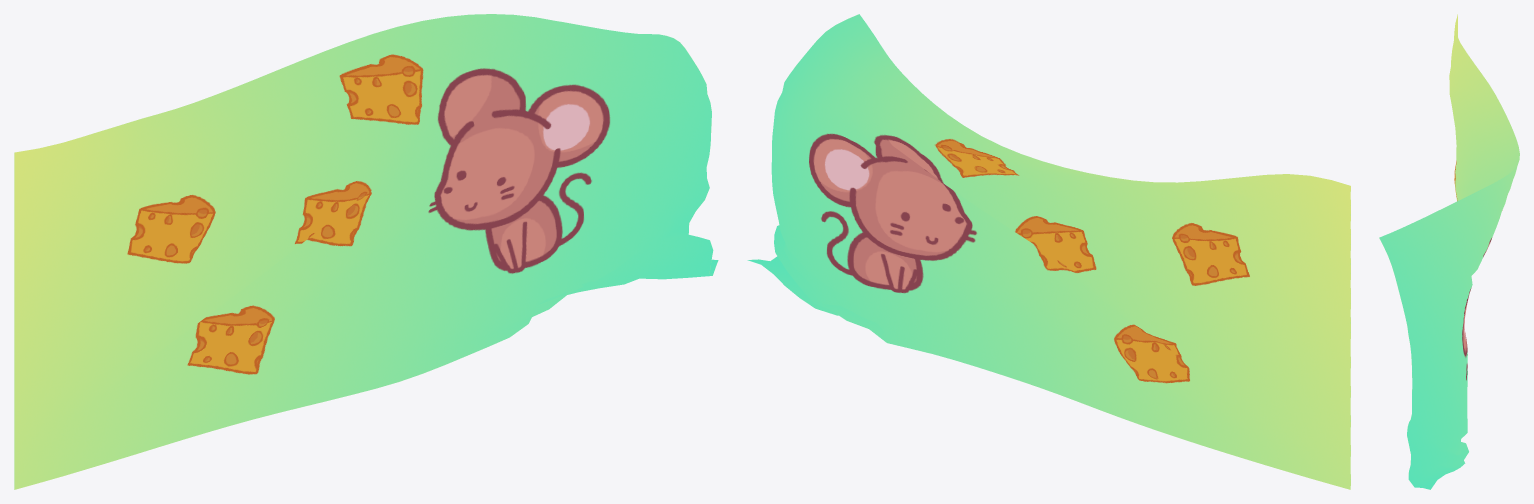
Rendered from flag_animation.glb.
3 views of the same model, side by side, from view 1: azimuth 30°, elevation 25°; view 2: azimuth 150°, elevation 25°; view 3: azimuth 270°, elevation 25° (orthographic). The views are drawn at different scales.
Visible parts, largest first — view 1: Flag; view 2: Flag; view 3: Flag.
Boxes of the visible parts, box(x1,y1,x2,y2) form: Flag: box(14, 14, 718, 489); Flag: box(747, 14, 1350, 489); Flag: box(1379, 14, 1519, 489).
Bounding box in the file's own units: 4.26 × 2.08 × 0.9502.
Materials: 1 (1 with a texture image).
